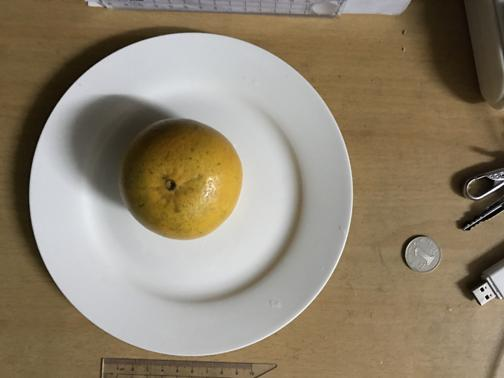coin: (404, 235, 440, 273)
orange: (121, 118, 242, 240)
